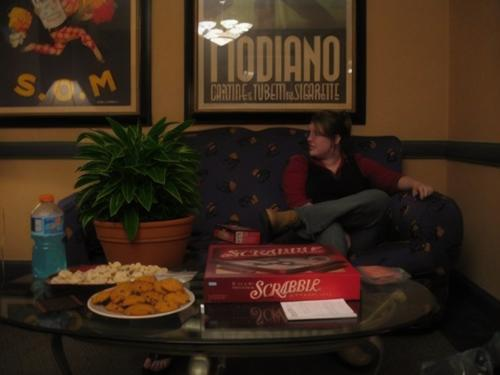bottle: (31, 192, 72, 280), (150, 206, 174, 266), (117, 178, 132, 218)
person: (263, 110, 436, 255)
person/foot: (263, 208, 285, 233)
person/hand: (411, 182, 432, 199)
person/head: (306, 110, 343, 158)
pottedplant: (75, 116, 200, 264)
sofa: (54, 124, 470, 287)
